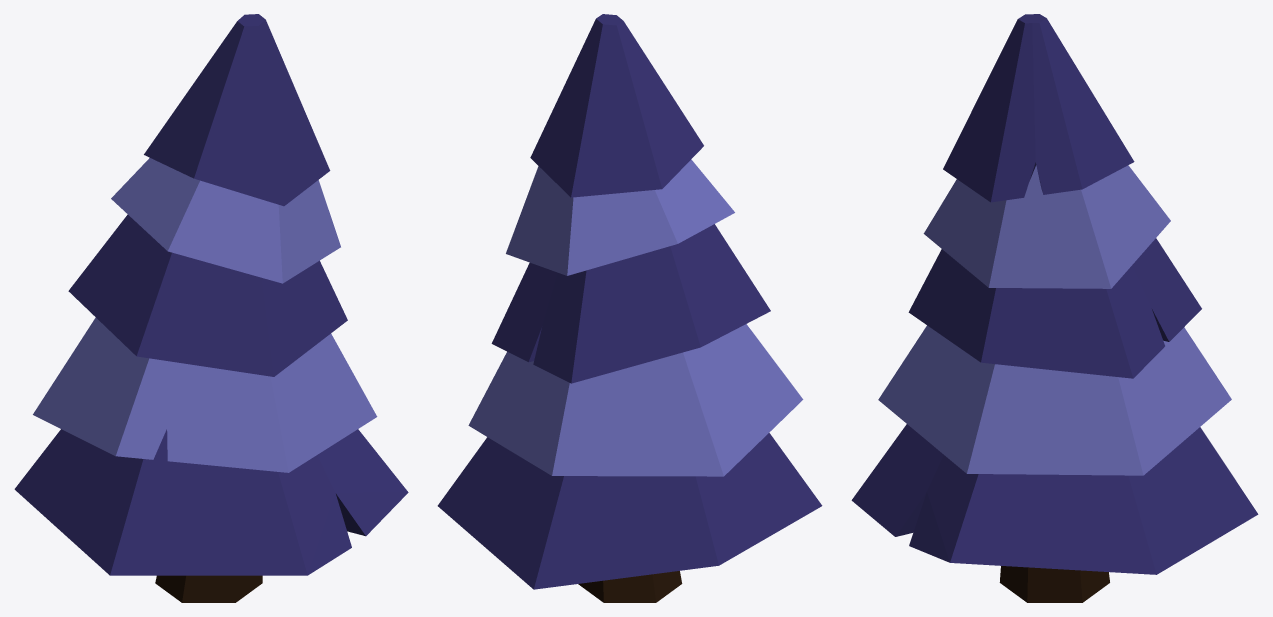
File: Tree5.1.fbx
3 renders of one model, left to right at view 1: azimuth 30°, elevation 25°; view 2: azimuth 150°, elevation 25°; view 3: azimuth 270°, elevation 25°, orthographic. The views are drawn at different scales.
Parts seen in each view (by area): view 1: Cylinder.012; view 2: Cylinder.012; view 3: Cylinder.012.
Part boxes in pixels (box(x1,y1,x2,y2)): Cylinder.012: box(14, 14, 408, 602); Cylinder.012: box(437, 14, 822, 602); Cylinder.012: box(851, 14, 1258, 602).
Bounding box in the file's own units: 333 × 604 × 384.
3 materials, 3 textured.
